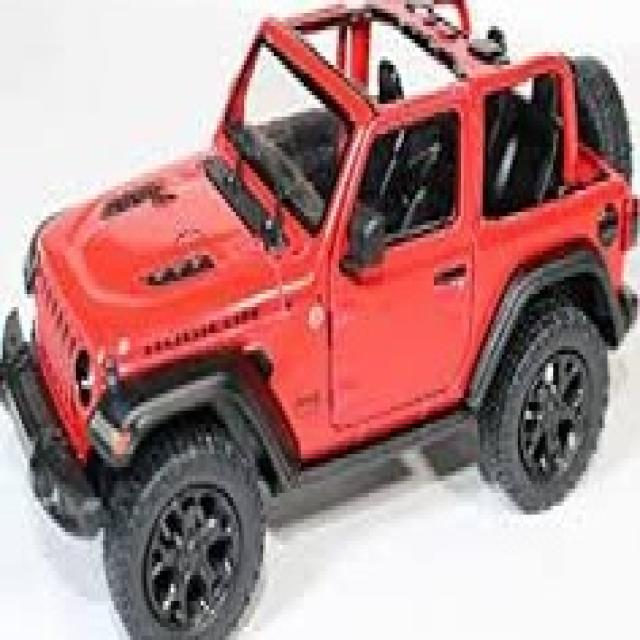red: (26, 0, 638, 538)
